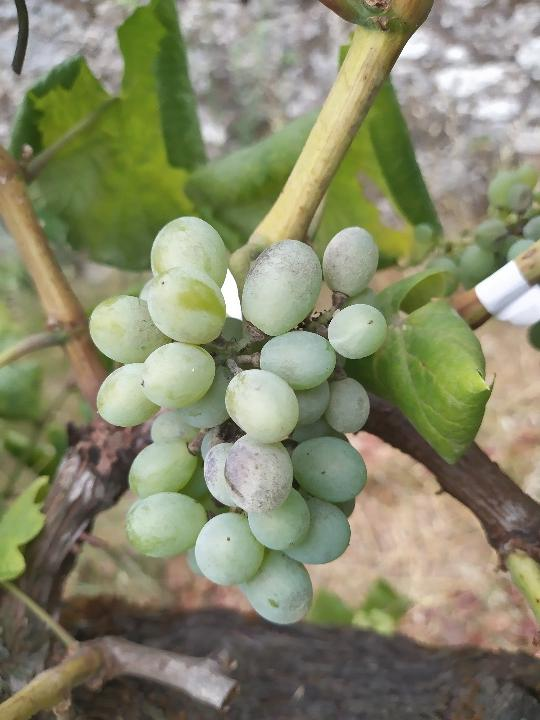grape: (86, 211, 391, 627)
